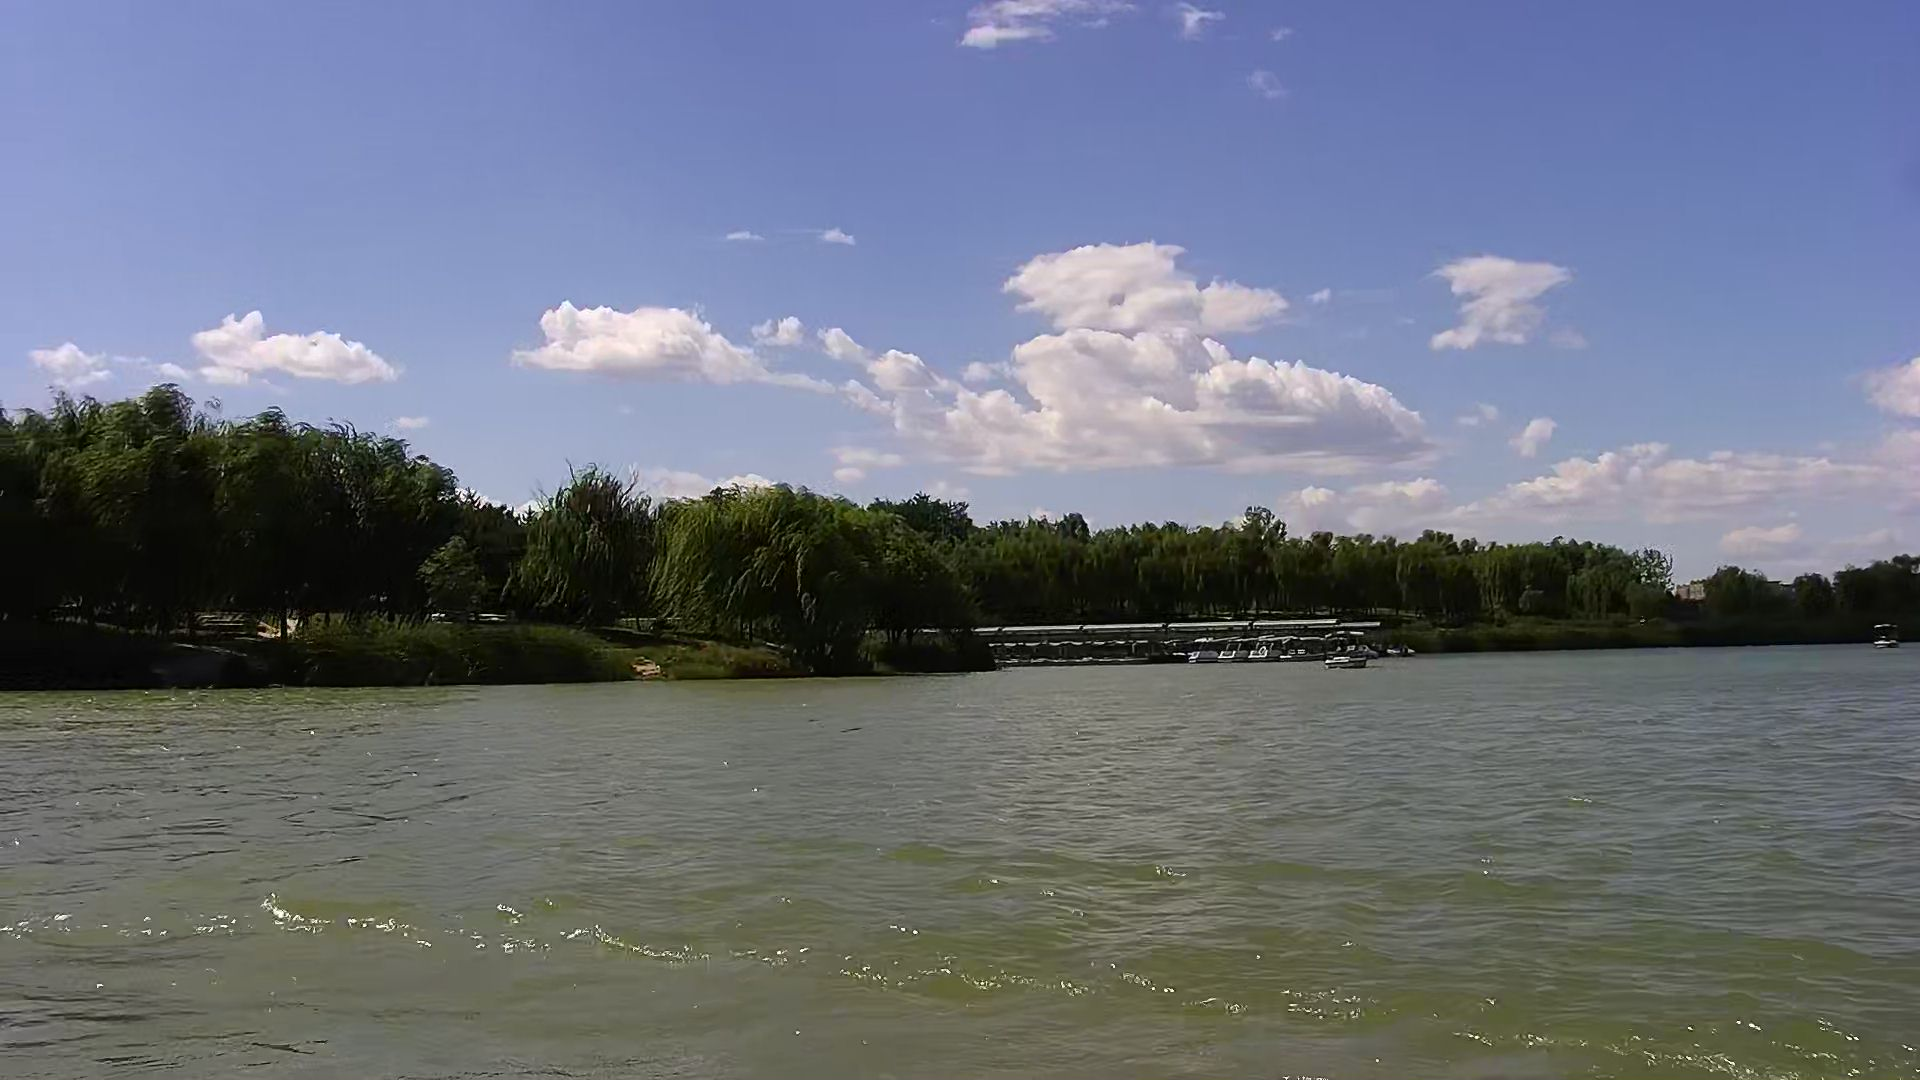boat: (1279, 636, 1321, 662), (1218, 636, 1257, 659), (1246, 637, 1284, 661), (1185, 637, 1221, 662), (1323, 655, 1367, 673), (1873, 622, 1898, 651)
harbor: (1004, 626, 1381, 663)
